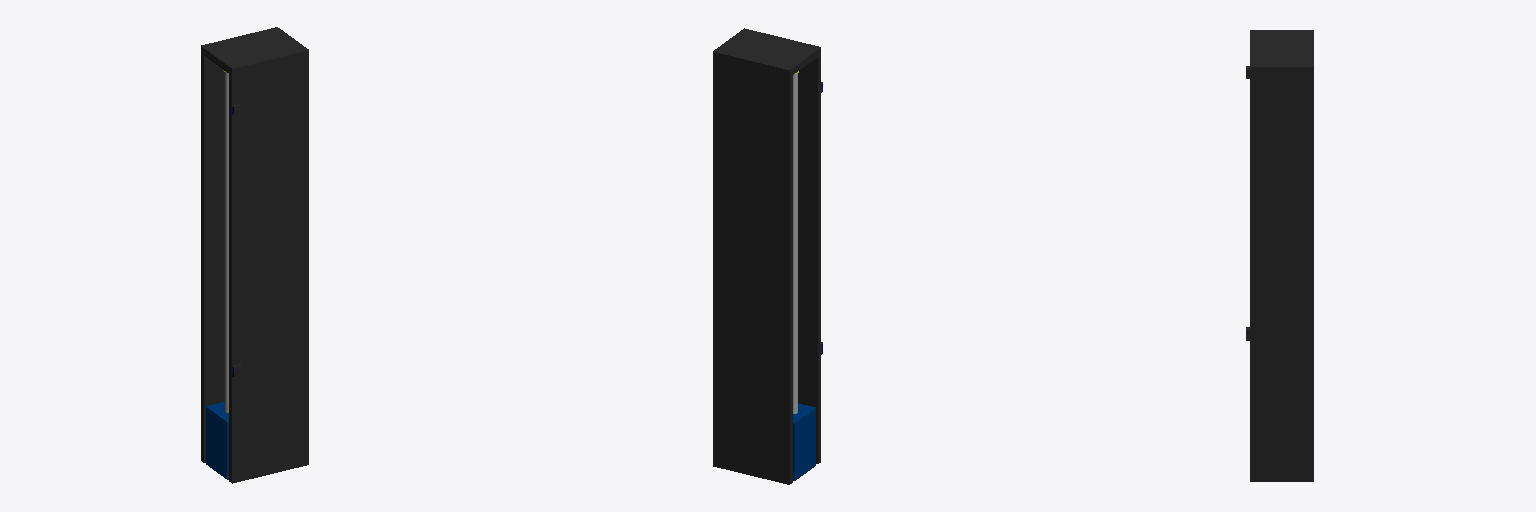
Rendered from SourceModel.obj.
3 views of the same model, side by side, from view 1: azimuth 30°, elevation 25°; view 2: azimuth 150°, elevation 25°; view 3: azimuth 270°, elevation 25° (orthographic).
Parts seen in each view (by area): view 1: Mesh1 Group1 Model; view 2: Mesh1 Group1 Model; view 3: Mesh1 Group1 Model.
Boxes of the visible parts, box(x1,y1,x2,y2) form: Mesh1 Group1 Model: box(201, 27, 308, 483); Mesh1 Group1 Model: box(713, 28, 822, 484); Mesh1 Group1 Model: box(1246, 30, 1313, 481).
Bounding box in the file's own units: 0.0889 × 0.4572 × 0.0675.